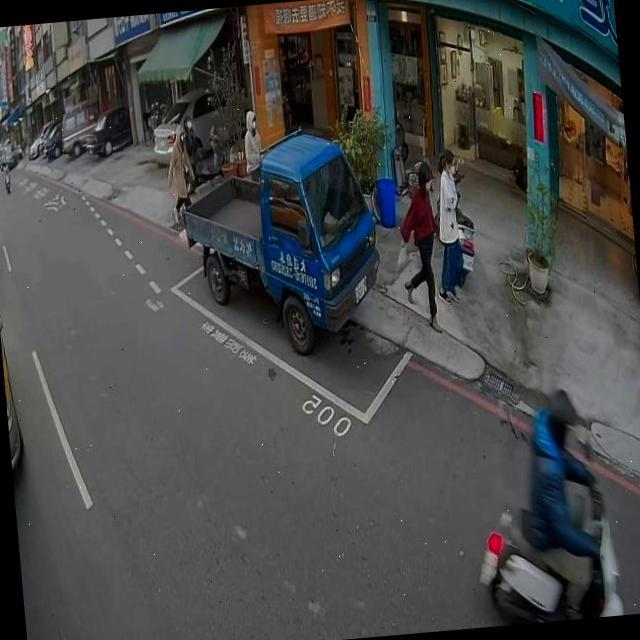person: (518, 378, 616, 622), (389, 148, 454, 334), (428, 153, 472, 302), (162, 121, 199, 232), (240, 106, 266, 188), (177, 115, 203, 194), (4, 159, 8, 173)
